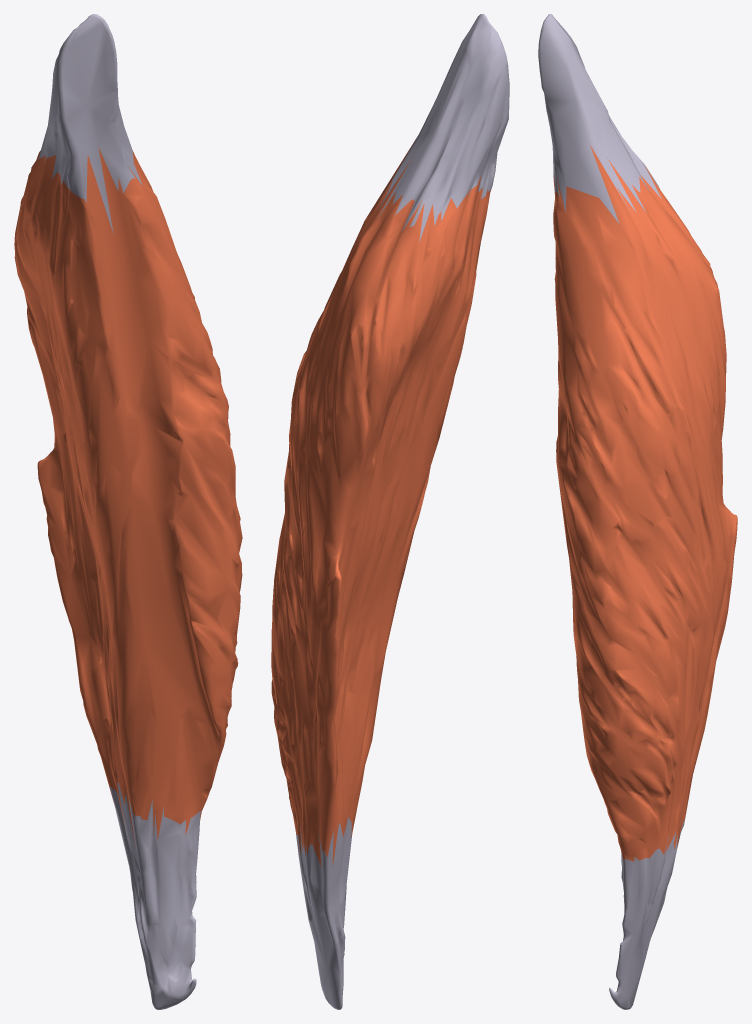
Rendered from Lateral_head_of_triceps_brachii_muscle.l_Generated_Mesh_From_X3.glb.
The picture shows the model from 3 angles, left to right: view 1: azimuth 30°, elevation 25°; view 2: azimuth 150°, elevation 25°; view 3: azimuth 270°, elevation 25°; orthographic projection. The views are drawn at different scales.
Visible parts, largest first — view 1: Lateral_head_of_triceps_brachii_muscle.l_Generated_Mesh_From; view 2: Lateral_head_of_triceps_brachii_muscle.l_Generated_Mesh_From; view 3: Lateral_head_of_triceps_brachii_muscle.l_Generated_Mesh_From.
Part boxes in pixels (bbox=[...]): Lateral_head_of_triceps_brachii_muscle.l_Generated_Mesh_From: bbox=[14, 14, 242, 1009]; Lateral_head_of_triceps_brachii_muscle.l_Generated_Mesh_From: bbox=[271, 14, 509, 1009]; Lateral_head_of_triceps_brachii_muscle.l_Generated_Mesh_From: bbox=[538, 14, 737, 1009].
Size of the model in its own units: 0.0562 by 0.2648 by 0.0507.
